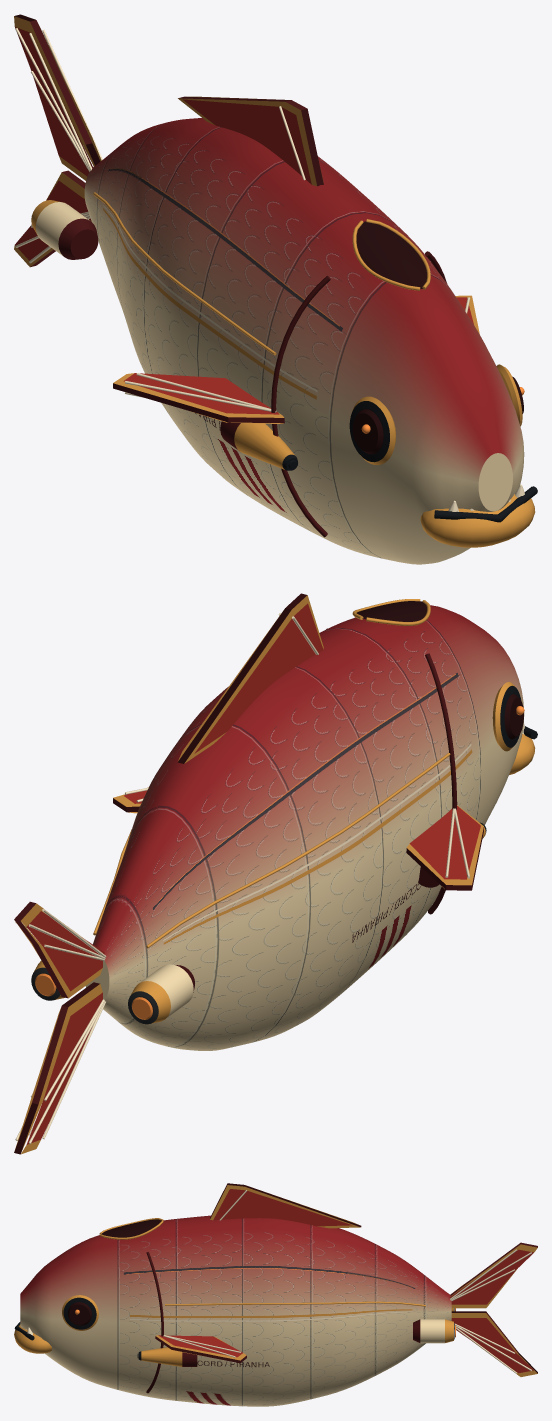
3 views of the same model, one above another, from view 1: azimuth 30°, elevation 25°; view 2: azimuth 150°, elevation 25°; view 3: azimuth 270°, elevation 25° (orthographic). The views are drawn at different scales.
Parts seen in each view (by area): view 1: piranha_hull; view 2: piranha_hull; view 3: piranha_hull.
Part boxes in pixels (x1=…): piranha_hull: x1=14, y1=14, x2=537, y2=564; piranha_hull: x1=14, y1=593, x2=537, y2=1154; piranha_hull: x1=14, y1=1183, x2=537, y2=1406.
Bounding box in the file's own units: 6.42 × 6.94 × 15.
1 material, 1 textured.
